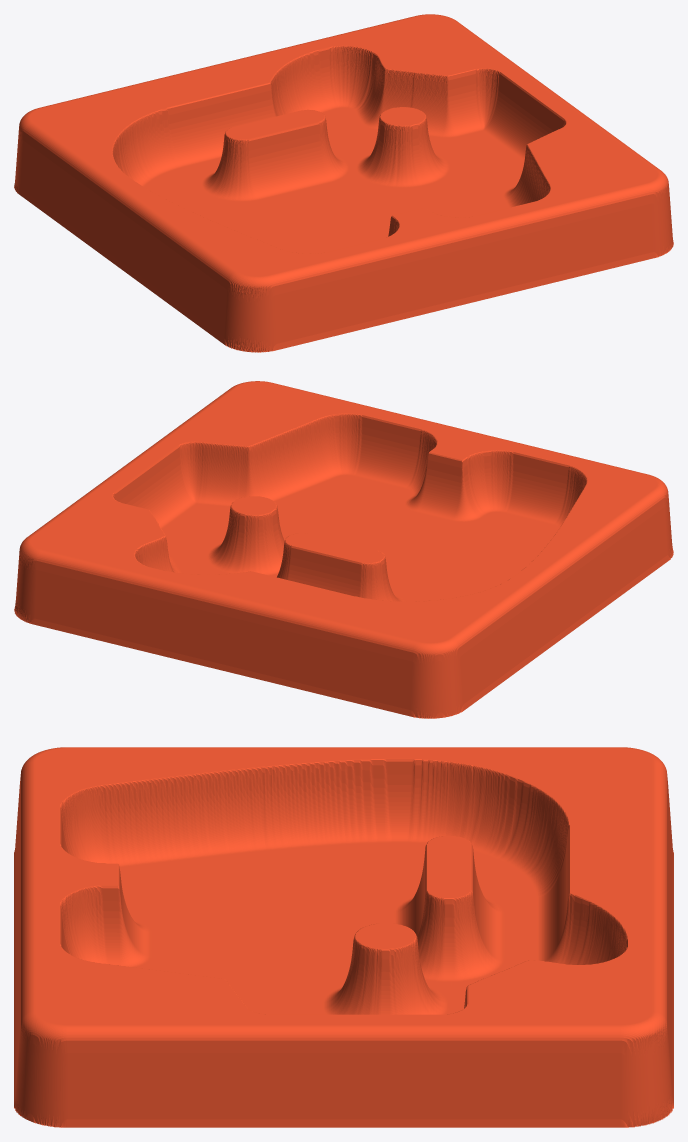
Rendered from mold.glb.
3 renders of one model, top to bottom at view 1: azimuth 30°, elevation 25°; view 2: azimuth 150°, elevation 25°; view 3: azimuth 270°, elevation 25°, orthographic. The views are drawn at different scales.
Parts seen in each view (by area): view 1: geometry_0; view 2: geometry_0; view 3: geometry_0.
Part boxes in pixels (bbox=[...]): geometry_0: bbox=[14, 14, 673, 352]; geometry_0: bbox=[14, 381, 673, 718]; geometry_0: bbox=[14, 747, 673, 1127].
Size of the model in its own units: 0.1178 by 0.0175 by 0.1116.
